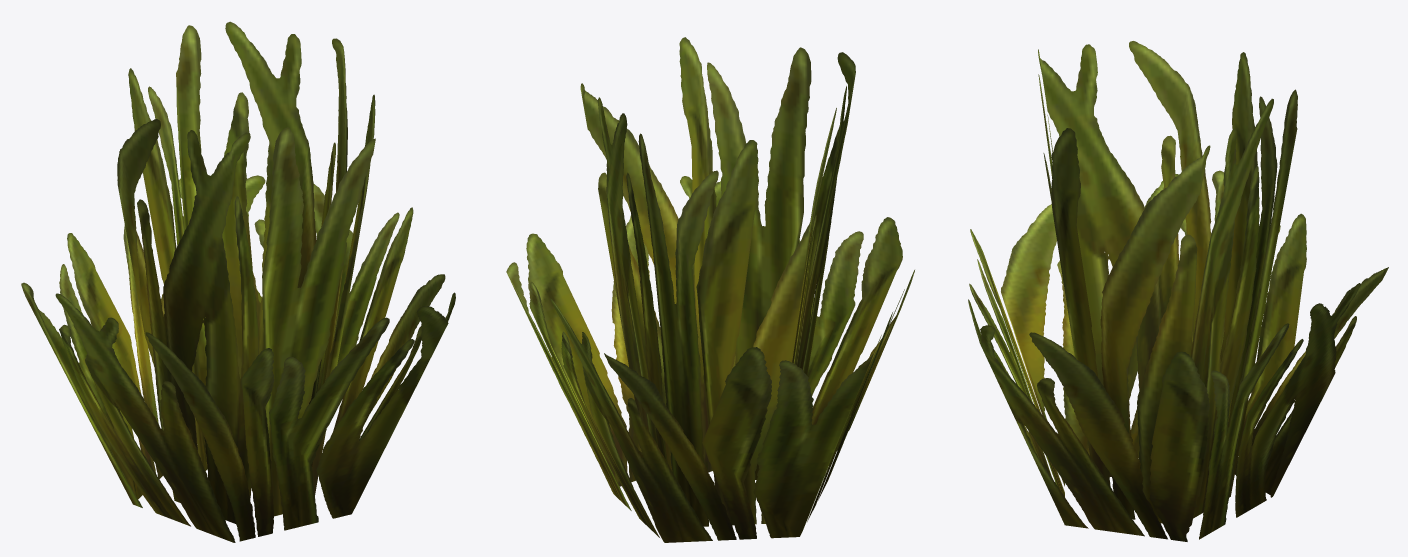
Rendered from wetlandgrass02.obj.
3 views of the same model, side by side, from view 1: azimuth 30°, elevation 25°; view 2: azimuth 150°, elevation 25°; view 3: azimuth 270°, elevation 25° (orthographic).
Visible parts, largest first — view 1: wetlandgrass02; view 2: wetlandgrass02; view 3: wetlandgrass02.
Part boxes in pixels (box(x1,y1,x2,y2)): wetlandgrass02: box(21, 21, 455, 542); wetlandgrass02: box(506, 37, 914, 542); wetlandgrass02: box(968, 41, 1388, 541).
Bounding box in the file's own units: 0.8968 × 0.9324 × 0.8529.
1 material, 1 textured.
